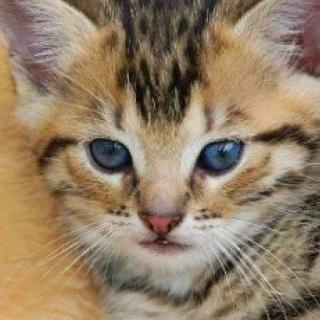cat: (3, 0, 320, 279)
nose: (133, 174, 194, 237)
